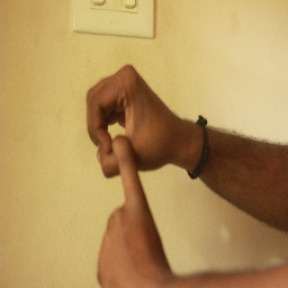Q: (72, 63, 184, 283)
